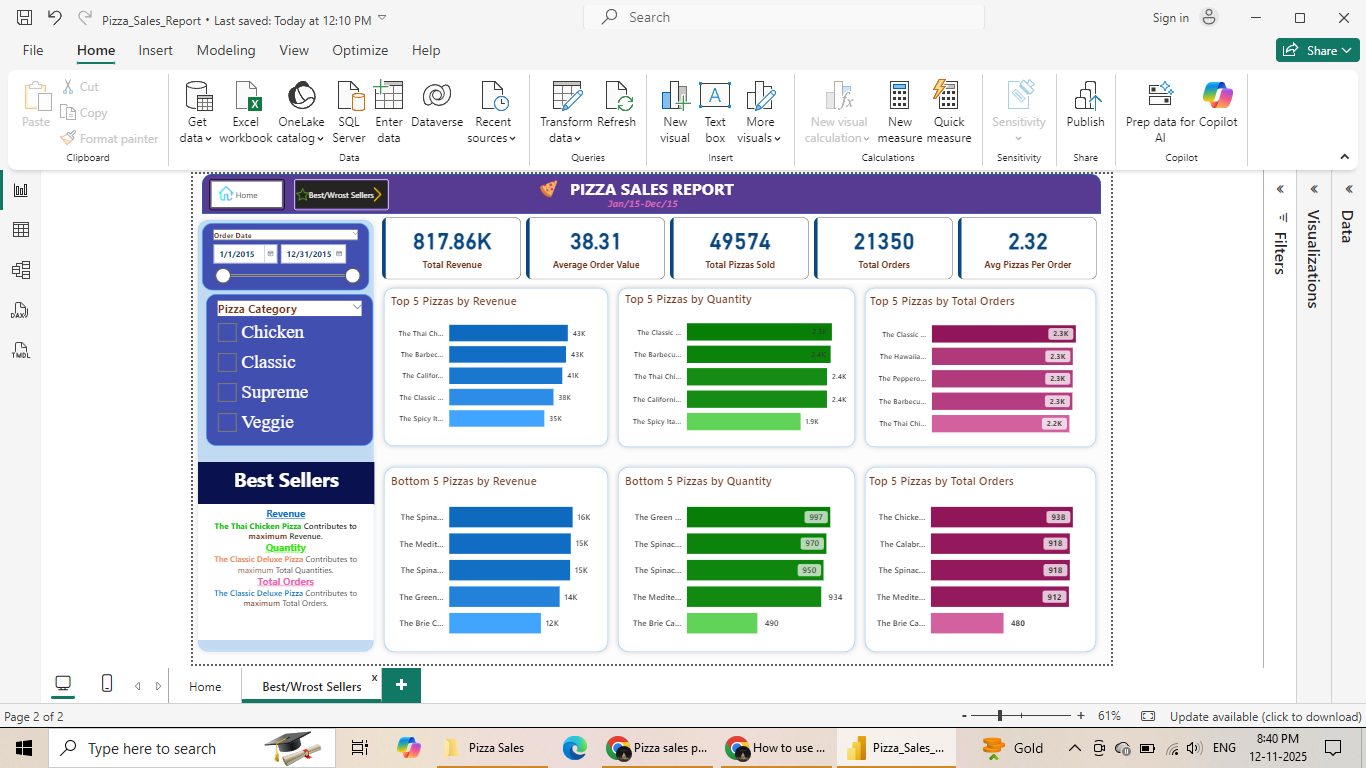

The page's visual inventory and layout, read from the dashboard file:
{"tool":"powerbi","page":{"name":"Best/Wrost Sellers","canvas":[1500,800],"ordinal":1},"visuals":[{"type":"cardVisual","fields":{"Data":["public pizzasales.Total Revenue","public pizzasales.Average Order Value","public pizzasales.Total Pizzas Sold","public pizzasales.Total Orders","public pizzasales.Avg Pizzas Per Order"]},"box":[303.7,65.3,1178.8,112.7],"z":0},{"type":"shape","box":[14.7,0,1467.8,65.3],"z":1000},{"type":"textbox","box":[605.7,0,287.3,47.3],"z":2000},{"type":"textbox","box":[644.9,34.3,178,32.7],"z":3000},{"type":"image","box":[542,4.9,76.7,39.2],"z":4000},{"type":"shape","box":[303.7,178,382,274.3],"z":5000},{"type":"shape","box":[0,67.2,303,720.9],"z":6000},{"type":"slicer","fields":{"Values":["public pizzasales.order_date"]},"box":[14.9,80.6,273.1,110.4],"z":7000},{"type":"shape","box":[685.7,178,403.3,275.9],"z":8000},{"type":"shape","box":[1089,178,393.5,275.9],"z":9000},{"type":"shape","box":[303.7,470.2,382,318.4],"z":10000},{"type":"shape","box":[685.7,470.2,403.3,318.4],"z":11000},{"type":"shape","box":[1089,470.2,393.5,318.4],"z":12000},{"type":"barChart","title":"Top 5 Pizzas by Revenue","fields":{"Category":["public pizzasales.pizza_name"],"Y":["public pizzasales.Total Revenue"]},"box":[318.9,194.9,348.4,238.2],"z":13000},{"type":"barChart","title":"Bottom 5 Pizzas by Revenue","fields":{"Category":["public pizzasales.pizza_name"],"Y":["public pizzasales.Total Revenue"]},"box":[318.9,488.2,348.4,285.4],"z":14000},{"type":"barChart","title":"Top 5 Pizzas by Quantity","fields":{"Category":["public pizzasales.pizza_name"],"Y":["public pizzasales.Total Pizzas Sold"]},"box":[700.8,190.9,372,248],"z":15000},{"type":"barChart","title":"Bottom 5 Pizzas by Quantity","fields":{"Category":["public pizzasales.pizza_name"],"Y":["public pizzasales.Total Pizzas Sold"]},"box":[700.8,488.2,372,285.4],"z":16000},{"type":"barChart","title":"Top 5 Pizzas by Total Orders","fields":{"Category":["public pizzasales.pizza_name"],"Y":["public pizzasales.Total Orders"]},"box":[1100.4,194.3,372.2,248.2],"z":17000},{"type":"barChart","title":"Top 5 Pizzas by Total Orders","fields":{"Category":["public pizzasales.pizza_name"],"Y":["public pizzasales.Total Orders"]},"box":[1098.4,488.2,372,285.4],"z":18000},{"type":"textbox","box":[7.5,470.1,288.1,68.7],"z":19000},{"type":"textbox","box":[7.5,538.8,286.6,222.4],"z":20000},{"type":"slicer","fields":{"Values":["public pizzasales.pizza_category"]},"box":[20.9,195.5,273.1,247.8],"z":21000},{"type":"pageNavigator","box":[164.2,7.5,155.2,50.7],"z":21001},{"type":"pageNavigator","box":[26.9,7.5,123.9,50.7],"z":21002},{"type":"image","box":[270.1,16.4,64.2,34.3],"z":21003},{"type":"image","box":[26.9,14.9,56.7,34.3],"z":21004},{"type":"image","box":[161.2,17.9,34.3,31.3],"z":21005}]}

Visuals, with their boxes on the page's 1500x800 design canvas (x1, y1, x2, y2). These are canvas units, not pixel positions in the 1366x768 screenshot, which may show the page scaled, cropped or inside an application window:
cardVisual - public pizzasales.Total Revenue x public pizzasales.Average Order Value: (x1=304, y1=65, x2=1482, y2=178)
shape: (x1=15, y1=0, x2=1482, y2=65)
textbox: (x1=606, y1=0, x2=893, y2=47)
textbox: (x1=645, y1=34, x2=823, y2=67)
image: (x1=542, y1=5, x2=619, y2=44)
shape: (x1=304, y1=178, x2=686, y2=452)
shape: (x1=0, y1=67, x2=303, y2=788)
slicer - public pizzasales.order_date: (x1=15, y1=81, x2=288, y2=191)
shape: (x1=686, y1=178, x2=1089, y2=454)
shape: (x1=1089, y1=178, x2=1482, y2=454)
shape: (x1=304, y1=470, x2=686, y2=789)
shape: (x1=686, y1=470, x2=1089, y2=789)
shape: (x1=1089, y1=470, x2=1482, y2=789)
"Top 5 Pizzas by Revenue" barChart: (x1=319, y1=195, x2=667, y2=433)
"Bottom 5 Pizzas by Revenue" barChart: (x1=319, y1=488, x2=667, y2=774)
"Top 5 Pizzas by Quantity" barChart: (x1=701, y1=191, x2=1073, y2=439)
"Bottom 5 Pizzas by Quantity" barChart: (x1=701, y1=488, x2=1073, y2=774)
"Top 5 Pizzas by Total Orders" barChart: (x1=1100, y1=194, x2=1473, y2=442)
"Top 5 Pizzas by Total Orders" barChart: (x1=1098, y1=488, x2=1470, y2=774)
textbox: (x1=8, y1=470, x2=296, y2=539)
textbox: (x1=8, y1=539, x2=294, y2=761)
slicer - public pizzasales.pizza_category: (x1=21, y1=196, x2=294, y2=443)
pageNavigator: (x1=164, y1=8, x2=319, y2=58)
pageNavigator: (x1=27, y1=8, x2=151, y2=58)
image: (x1=270, y1=16, x2=334, y2=51)
image: (x1=27, y1=15, x2=84, y2=49)
image: (x1=161, y1=18, x2=196, y2=49)
